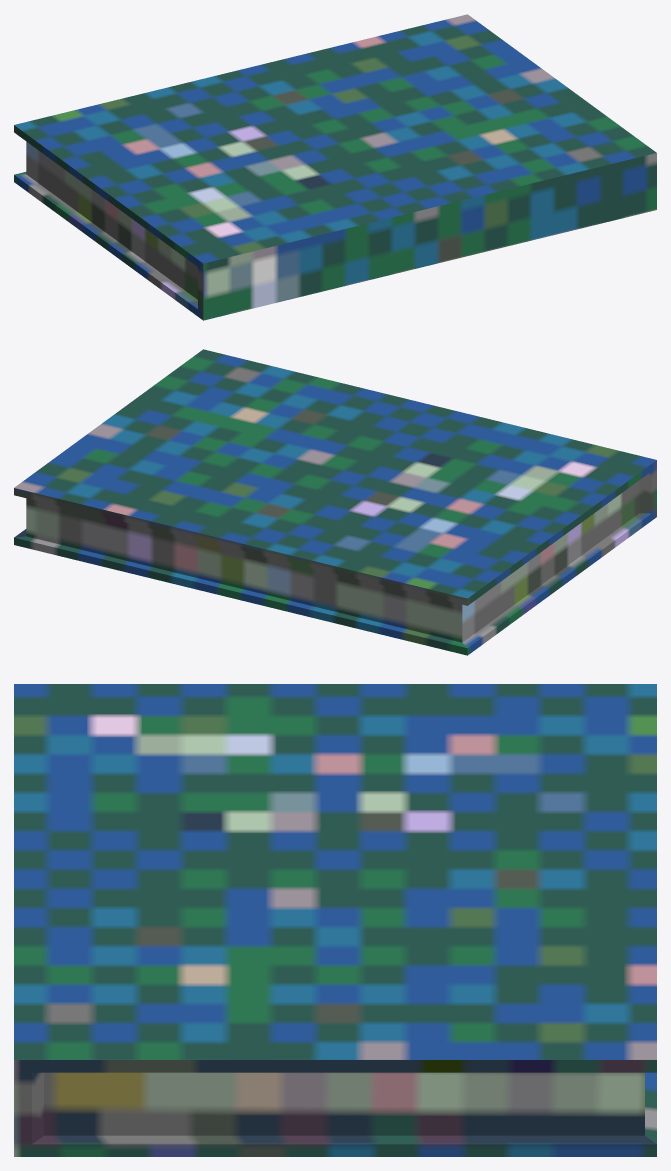
The model's file is libro_2.fbx.
3 views of the same model, one above another, from view 1: azimuth 30°, elevation 25°; view 2: azimuth 150°, elevation 25°; view 3: azimuth 270°, elevation 25° (orthographic). The views are drawn at different scales.
Visible parts, largest first — view 1: Libro4; view 2: Libro4; view 3: Libro4.
Boxes of the visible parts, x1=… form: Libro4: x1=14, y1=14, x2=656, y2=320; Libro4: x1=14, y1=349, x2=656, y2=655; Libro4: x1=14, y1=684, x2=656, y2=1156.
Size of the model in its own units: 0.9776 by 0.1176 by 0.7068.
